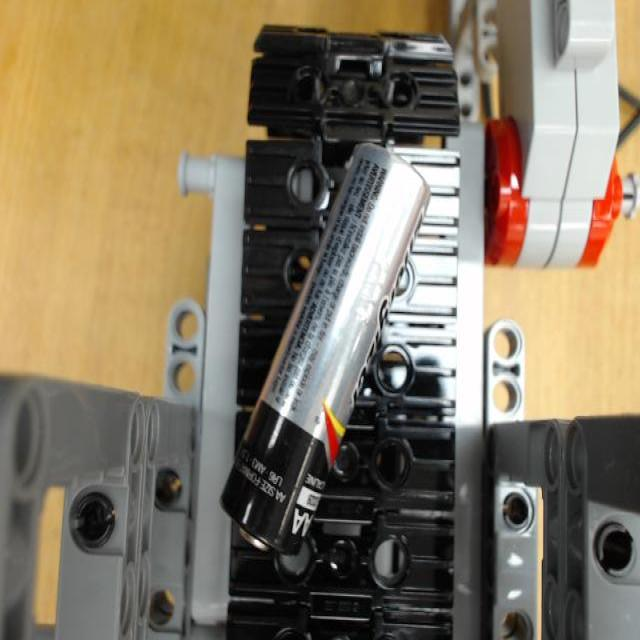AA: (220, 138, 433, 561)
